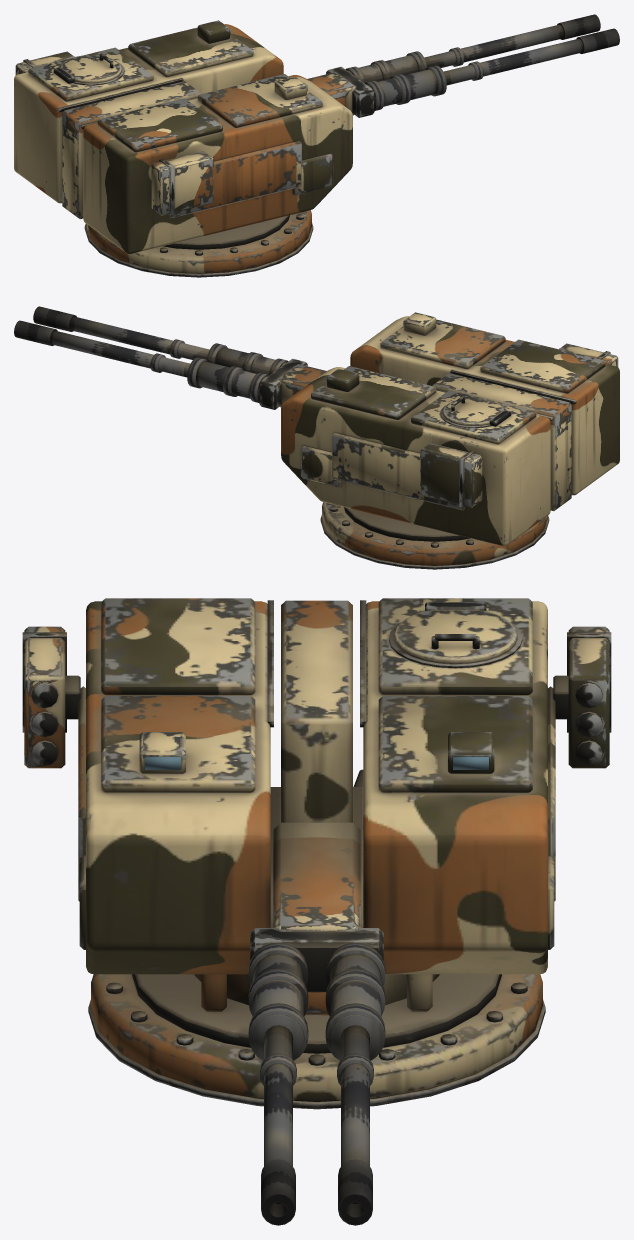
File: turret_kit_t1.glb
3 views of the same model, one above another, from view 1: azimuth 30°, elevation 25°; view 2: azimuth 150°, elevation 25°; view 3: azimuth 270°, elevation 25° (orthographic). The views are drawn at different scales.
Visible parts, largest first — view 1: turret_twin_t1, guns, pods; view 2: turret_twin_t1, guns, pods; view 3: turret_twin_t1, guns, pods.
Boxes of the visible parts, x1,y1,x2,y2 form: turret_twin_t1: (14,20,352,277); guns: (308,14,619,117); pods: (15,51,213,215); turret_twin_t1: (281,312,619,569); guns: (14,306,325,409); pods: (420,343,618,507); turret_twin_t1: (78,598,555,1109); guns: (248,822,385,1225); pods: (22,626,611,768).
Size of the model in its own units: 2.41 by 0.695 by 1.15.
Materials: 4 (3 with a texture image).
